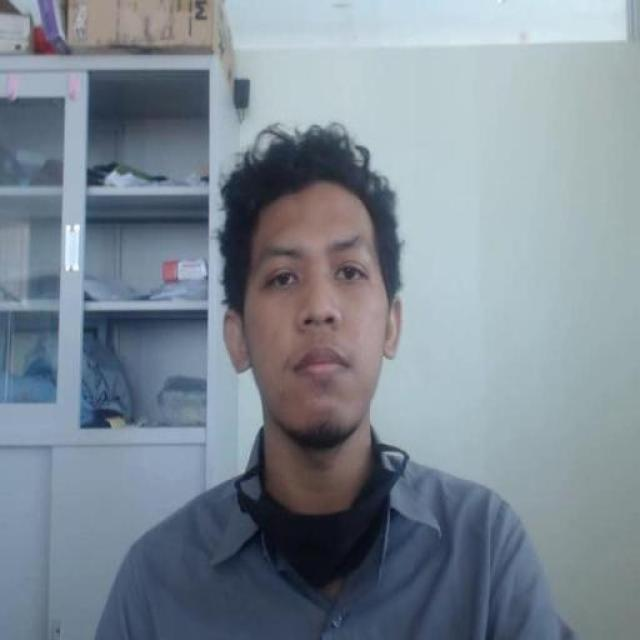bareface: (228, 193, 384, 435)
